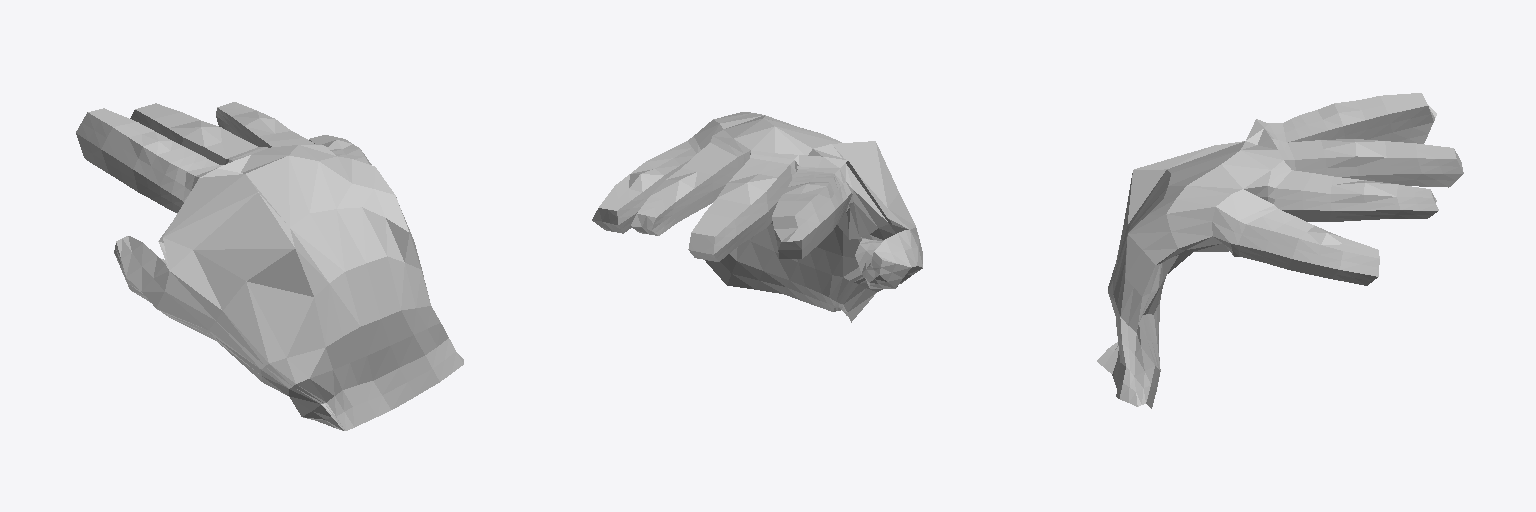
The model's file is flexion0039.obj.
3 views of the same model, side by side, from view 1: azimuth 30°, elevation 25°; view 2: azimuth 150°, elevation 25°; view 3: azimuth 270°, elevation 25° (orthographic).
Visible parts, largest first — view 1: Hand; view 2: Hand; view 3: Hand.
Part boxes in pixels (x1,y1,x2,y2): Hand: (76, 102, 463, 430); Hand: (592, 112, 922, 322); Hand: (1097, 93, 1463, 408).
Bounding box in the file's own units: 3.27 × 2.64 × 3.8.